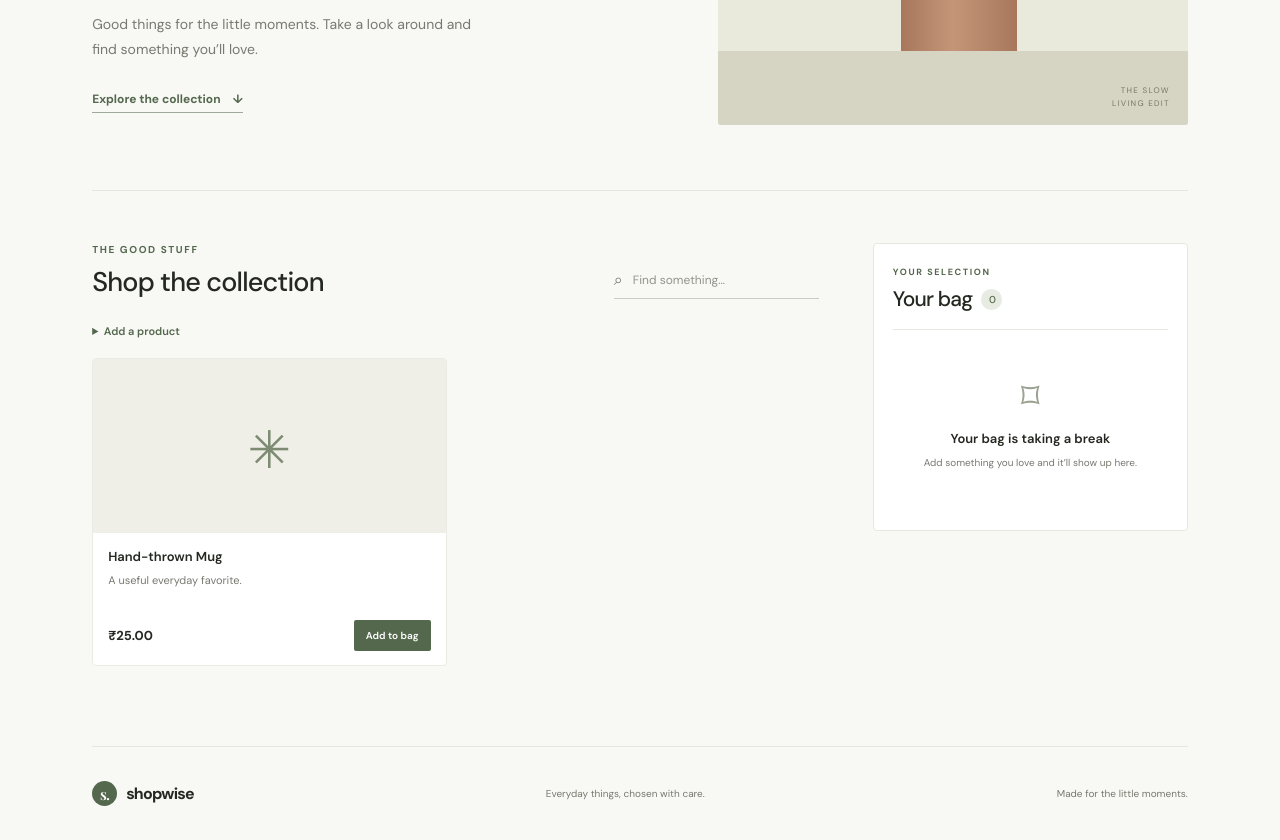
Test: shopping experience › clears all cart items
(page scrolled)
Click the button "Add to bag" at (392, 636), box [354,620,430,651]
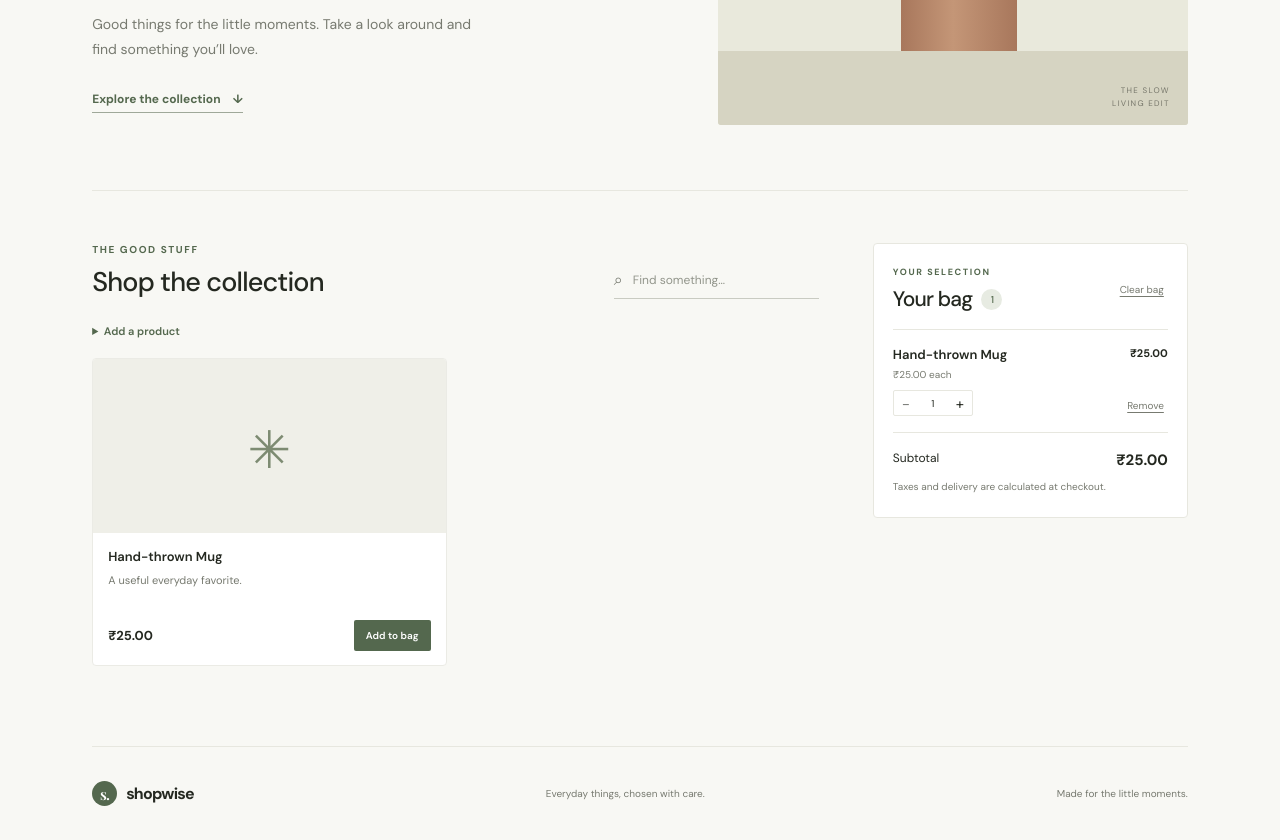
Click the button "Clear bag" at (1142, 290), box [1116,279,1168,300]
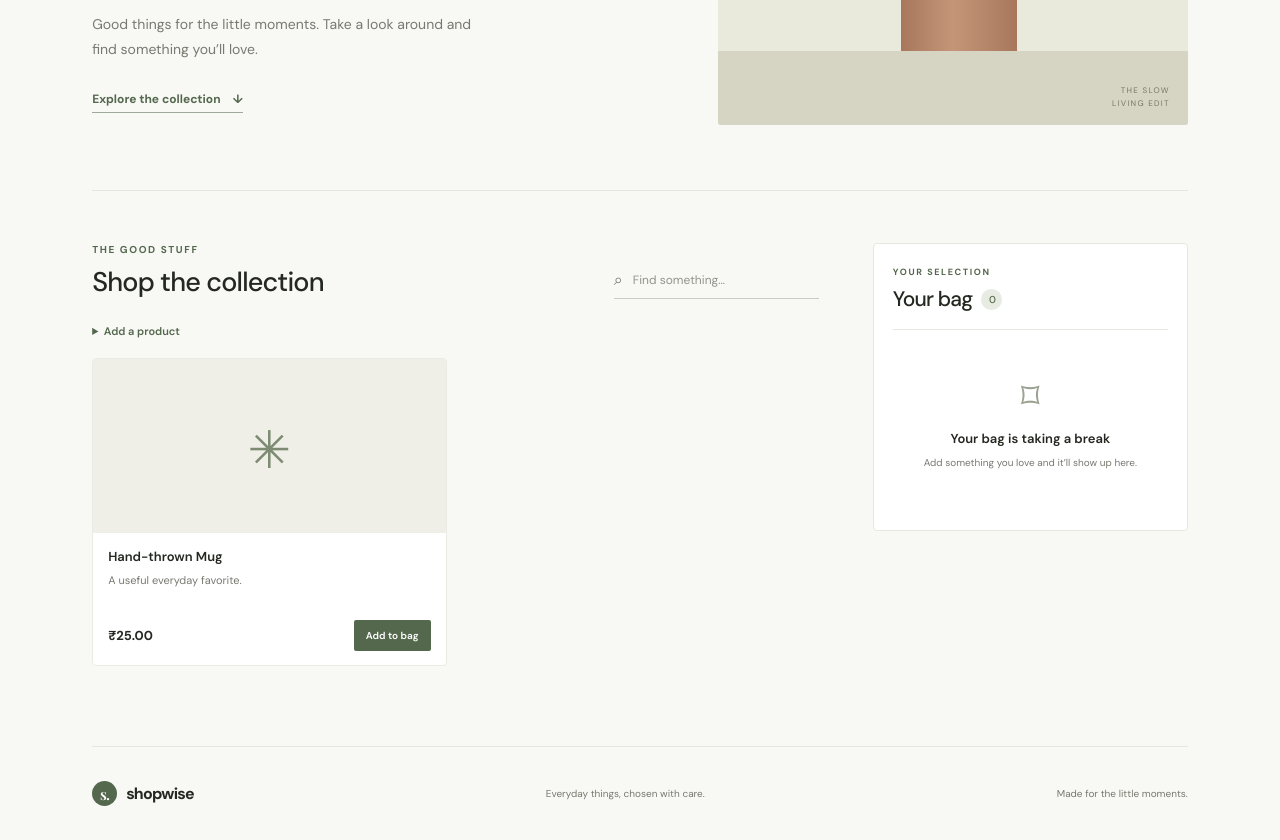
Expected: the heading "Your bag is taking a break" is shown, [950,430,1110,447]
